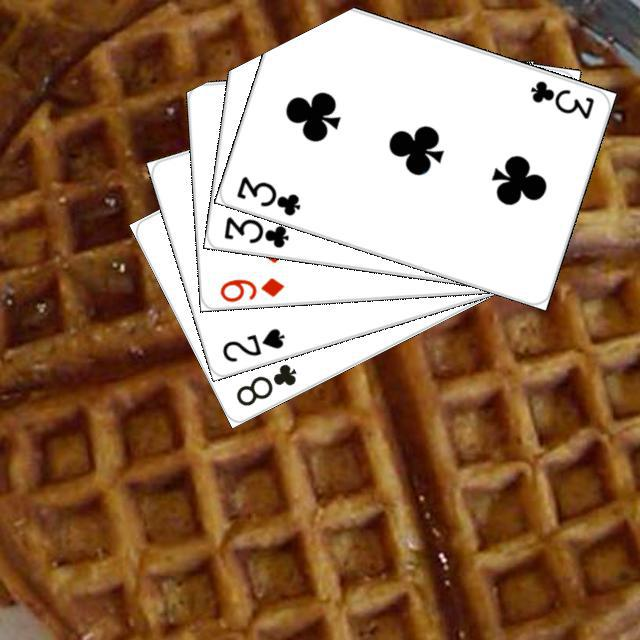2s: (217, 323, 287, 364)
3c: (231, 171, 303, 218), (525, 75, 596, 121), (219, 211, 291, 250)
8c: (231, 358, 298, 408)
9d: (215, 273, 286, 302)
